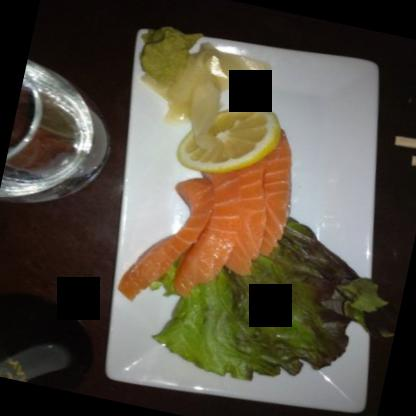shrimp: (114, 102, 307, 324)
